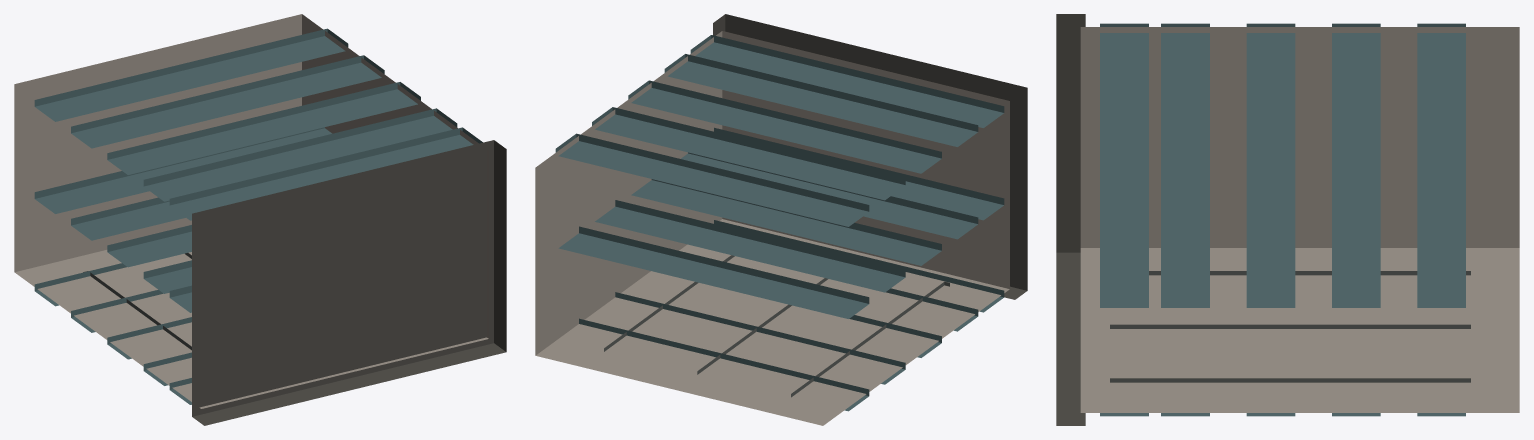
File: brick_5f.glb
3 views of the same model, side by side, from view 1: azimuth 30°, elevation 25°; view 2: azimuth 150°, elevation 25°; view 3: azimuth 270°, elevation 25° (orthographic). The views are drawn at different scales.
Size of the model in its own units: 16.8 by 10.8 by 19.
